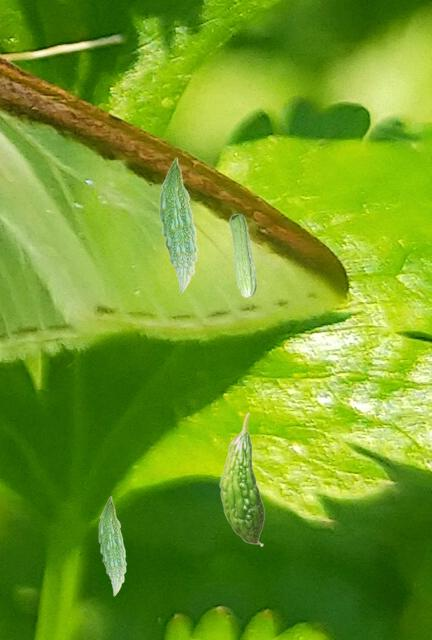ampalaya: (218, 412, 265, 547), (159, 157, 198, 294), (98, 496, 127, 596), (228, 213, 257, 298)
